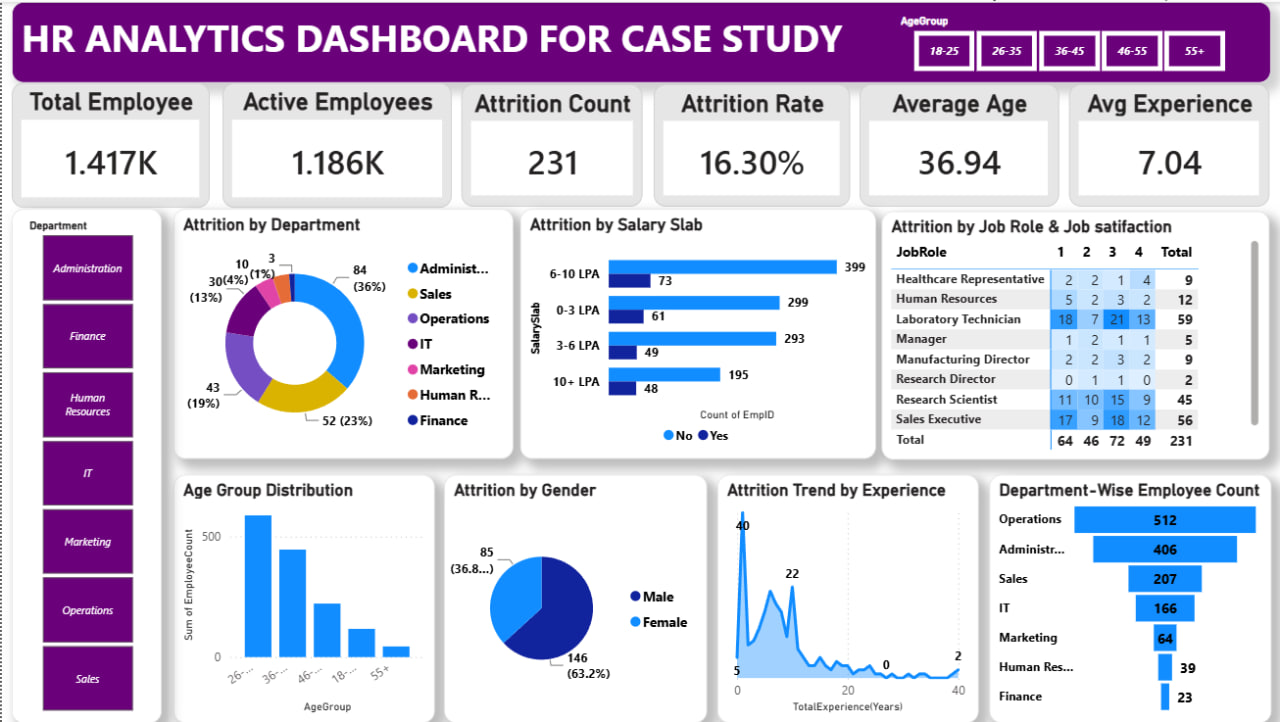

What the dashboard file says about the page in this screenshot:
{"tool":"powerbi","page":{"name":"Page 1","canvas":[1280,720],"ordinal":0},"visuals":[{"type":"textbox","box":[9.6,0,1257,81],"z":0},{"type":"cardVisual","title":"Total Employee","fields":{"Data":["CountNonNull(HR_Analytics-4.EmpID)"]},"box":[9.6,81,197.6,124.9],"z":1000},{"type":"cardVisual","title":"Active Employees","fields":{"Data":["CountNonNull(HR_Analytics-4.EmployeeCount)"]},"box":[219.6,81,229.2,124.9],"z":2000},{"type":"cardVisual","title":"Attrition Count","fields":{"Data":["Sum(HR_Analytics-4.AttritionCount)"]},"box":[458.3,82.3,181.1,122.1],"z":3000},{"type":"cardVisual","title":"Attrition Rate","fields":{"Data":["HR_Analytics-4.Attrition Rate %"]},"box":[650.4,82.3,196.2,122.1],"z":4000},{"type":"cardVisual","title":"Average Age","fields":{"Data":["Avg(HR_Analytics-4.Age)"]},"box":[856.3,82.3,199,122.1],"z":5000},{"type":"cardVisual","title":"Avg Experience","fields":{"Data":["Avg(HR_Analytics-4.YearsatCompany)"]},"box":[1064.8,82.3,200.3,122.1],"z":6000},{"type":"donutChart","title":"Attrition by Department","fields":{"Category":["HR_Analytics-4.Department"],"Y":["Sum(HR_Analytics-4.AttritionCount)"]},"box":[171.5,207.2,338.9,249.7],"z":7000},{"type":"clusteredBarChart","title":"Attrition by Salary Slab","fields":{"Category":["HR_Analytics-4.SalarySlab"],"Y":["CountNonNull(HR_Analytics-4.EmpID)"],"Series":["HR_Analytics-4.Attrition"]},"box":[517.3,207.2,355.4,249.7],"z":8000},{"type":"pivotTable","title":"Attrition by Job Role & Job satifaction","fields":{"Rows":["HR_Analytics-4.JobRole"],"Values":["Sum(HR_Analytics-4.AttritionCount)"],"Columns":["HR_Analytics-4.JobSatisfaction"]},"box":[878.2,208.6,387,248.4],"z":9000},{"type":"columnChart","title":"Age Group Distribution","fields":{"Category":["HR_Analytics-4.AgeGroup"],"Y":["Sum(HR_Analytics-4.EmployeeCount)"]},"box":[171.5,472,260.7,248.4],"z":10000},{"type":"pieChart","title":"Attrition by Gender","fields":{"Category":["HR_Analytics-4.Gender"],"Y":["Sum(HR_Analytics-4.AttritionCount)"]},"box":[441.9,472,262.1,248.4],"z":11000},{"type":"areaChart","title":"Attrition Trend by Experience","fields":{"Category":["HR_Analytics-4.TotalExperience(Years)"],"Y2":["Sum(HR_Analytics-4.AttritionCount)"]},"box":[713.6,472,260.7,248.4],"z":12000},{"type":"funnel","title":"Department-Wise Employee Count","fields":{"Category":["HR_Analytics-4.Department"],"Y":["CountNonNull(HR_Analytics-4.EmpID)"]},"box":[985.3,472,281.3,248.4],"z":13000},{"type":"slicer","fields":{"Values":["HR_Analytics-4.Department"]},"box":[9.6,207.2,149.6,513.2],"z":14000},{"type":"slicer","fields":{"Values":["HR_Analytics-4.AgeGroup"]},"box":[883.7,6.9,360.9,68.6],"z":14001}]}

Visuals, with their boxes in screenshot pixels (x1, y1, x2, y2), scaled from the page's 1280x720 canvas onto the 1280x722 screenshot:
textbox: box(10, 0, 1267, 81)
"Total Employee" cardVisual: box(10, 81, 207, 206)
"Active Employees" cardVisual: box(220, 81, 449, 206)
"Attrition Count" cardVisual: box(458, 83, 639, 205)
"Attrition Rate" cardVisual: box(650, 83, 847, 205)
"Average Age" cardVisual: box(856, 83, 1055, 205)
"Avg Experience" cardVisual: box(1065, 83, 1265, 205)
"Attrition by Department" donutChart: box(172, 208, 510, 458)
"Attrition by Salary Slab" clusteredBarChart: box(517, 208, 873, 458)
"Attrition by Job Role & Job satifaction" pivotTable: box(878, 209, 1265, 458)
"Age Group Distribution" columnChart: box(172, 473, 432, 721)
"Attrition by Gender" pieChart: box(442, 473, 704, 721)
"Attrition Trend by Experience" areaChart: box(714, 473, 974, 721)
"Department-Wise Employee Count" funnel: box(985, 473, 1267, 721)
slicer - HR_Analytics-4.Department: box(10, 208, 159, 721)
slicer - HR_Analytics-4.AgeGroup: box(884, 7, 1245, 76)
